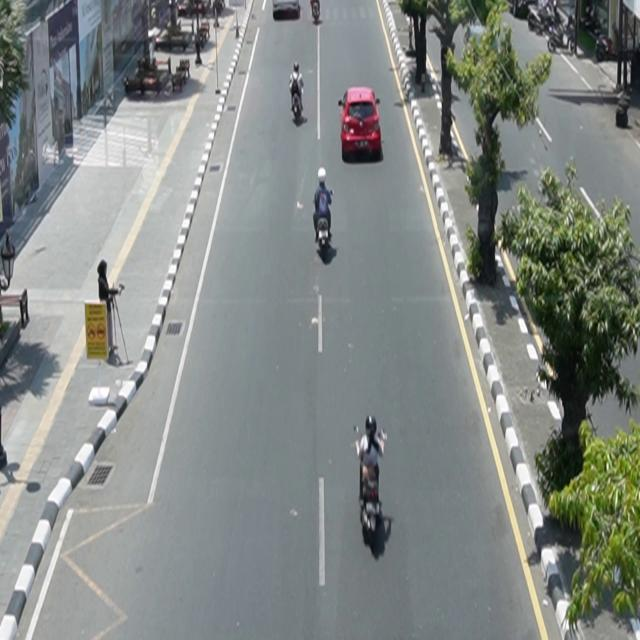car: (339, 86, 383, 163)
